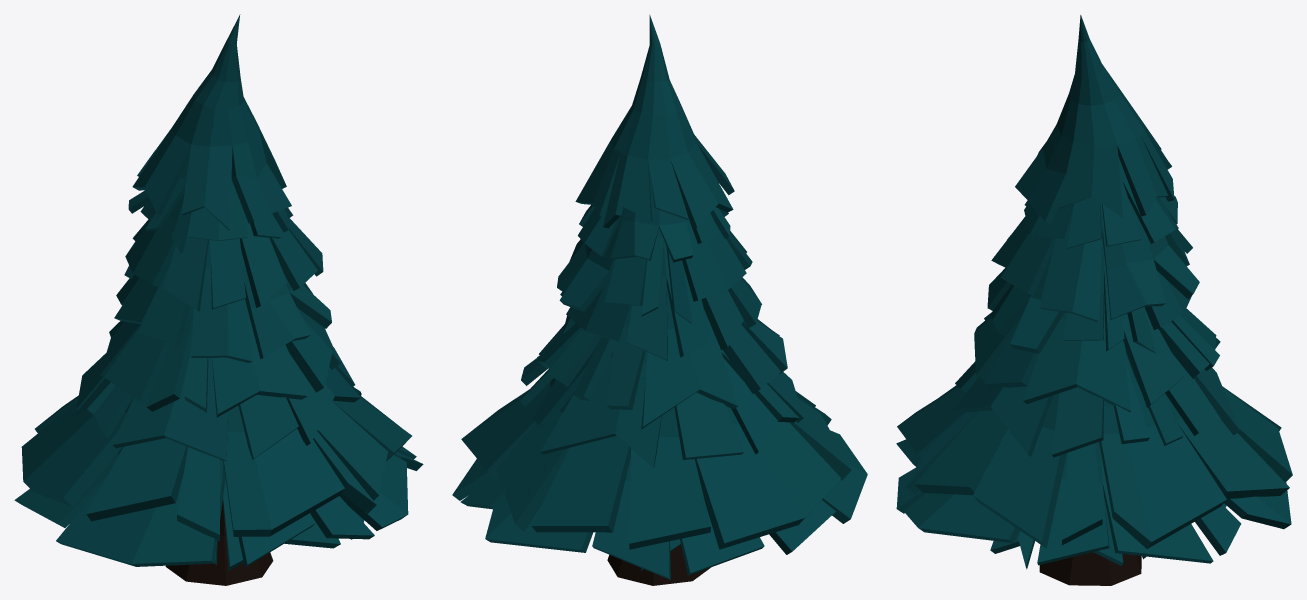
The model's file is tree.obj.
The picture shows the model from 3 angles, left to right: view 1: azimuth 30°, elevation 25°; view 2: azimuth 150°, elevation 25°; view 3: azimuth 270°, elevation 25°; orthographic projection. The views are drawn at different scales.
Parts seen in each view (by area): view 1: Ёлка; view 2: Ёлка; view 3: Ёлка.
Part boxes in pixels (bbox=[...]): Ёлка: bbox=[14, 14, 423, 585]; Ёлка: bbox=[452, 14, 867, 585]; Ёлка: bbox=[896, 15, 1292, 585].
Bounding box in the file's own units: 0.8543 × 1.28 × 0.8242.
